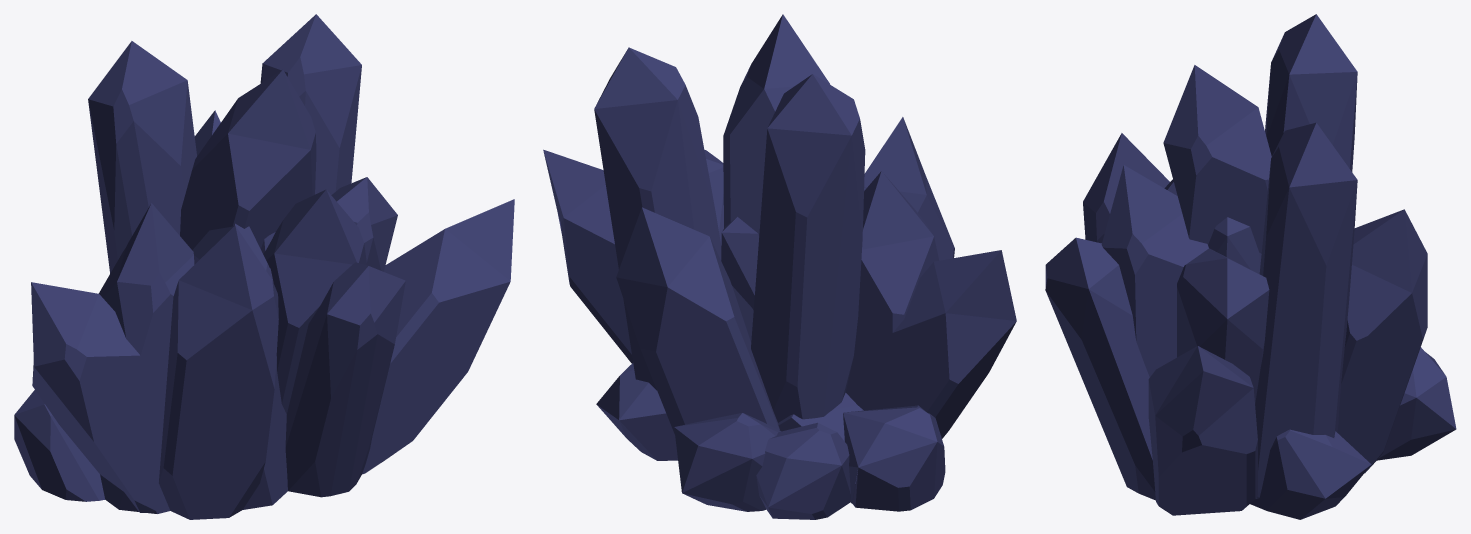
Rendered from 0512_Crystal_doodles_.fbx.
3 views of the same model, side by side, from view 1: azimuth 30°, elevation 25°; view 2: azimuth 150°, elevation 25°; view 3: azimuth 270°, elevation 25° (orthographic).
Parts seen in each view (by area): view 1: BakedObject; view 2: BakedObject; view 3: BakedObject.
Boxes of the visible parts, left/top/right/bottom form: BakedObject: left=14, top=14, right=514, bottom=519; BakedObject: left=543, top=14, right=1016, bottom=519; BakedObject: left=1045, top=14, right=1456, bottom=519.
Size of the model in its own units: 366 by 301 by 272.
1 material, 1 textured.
